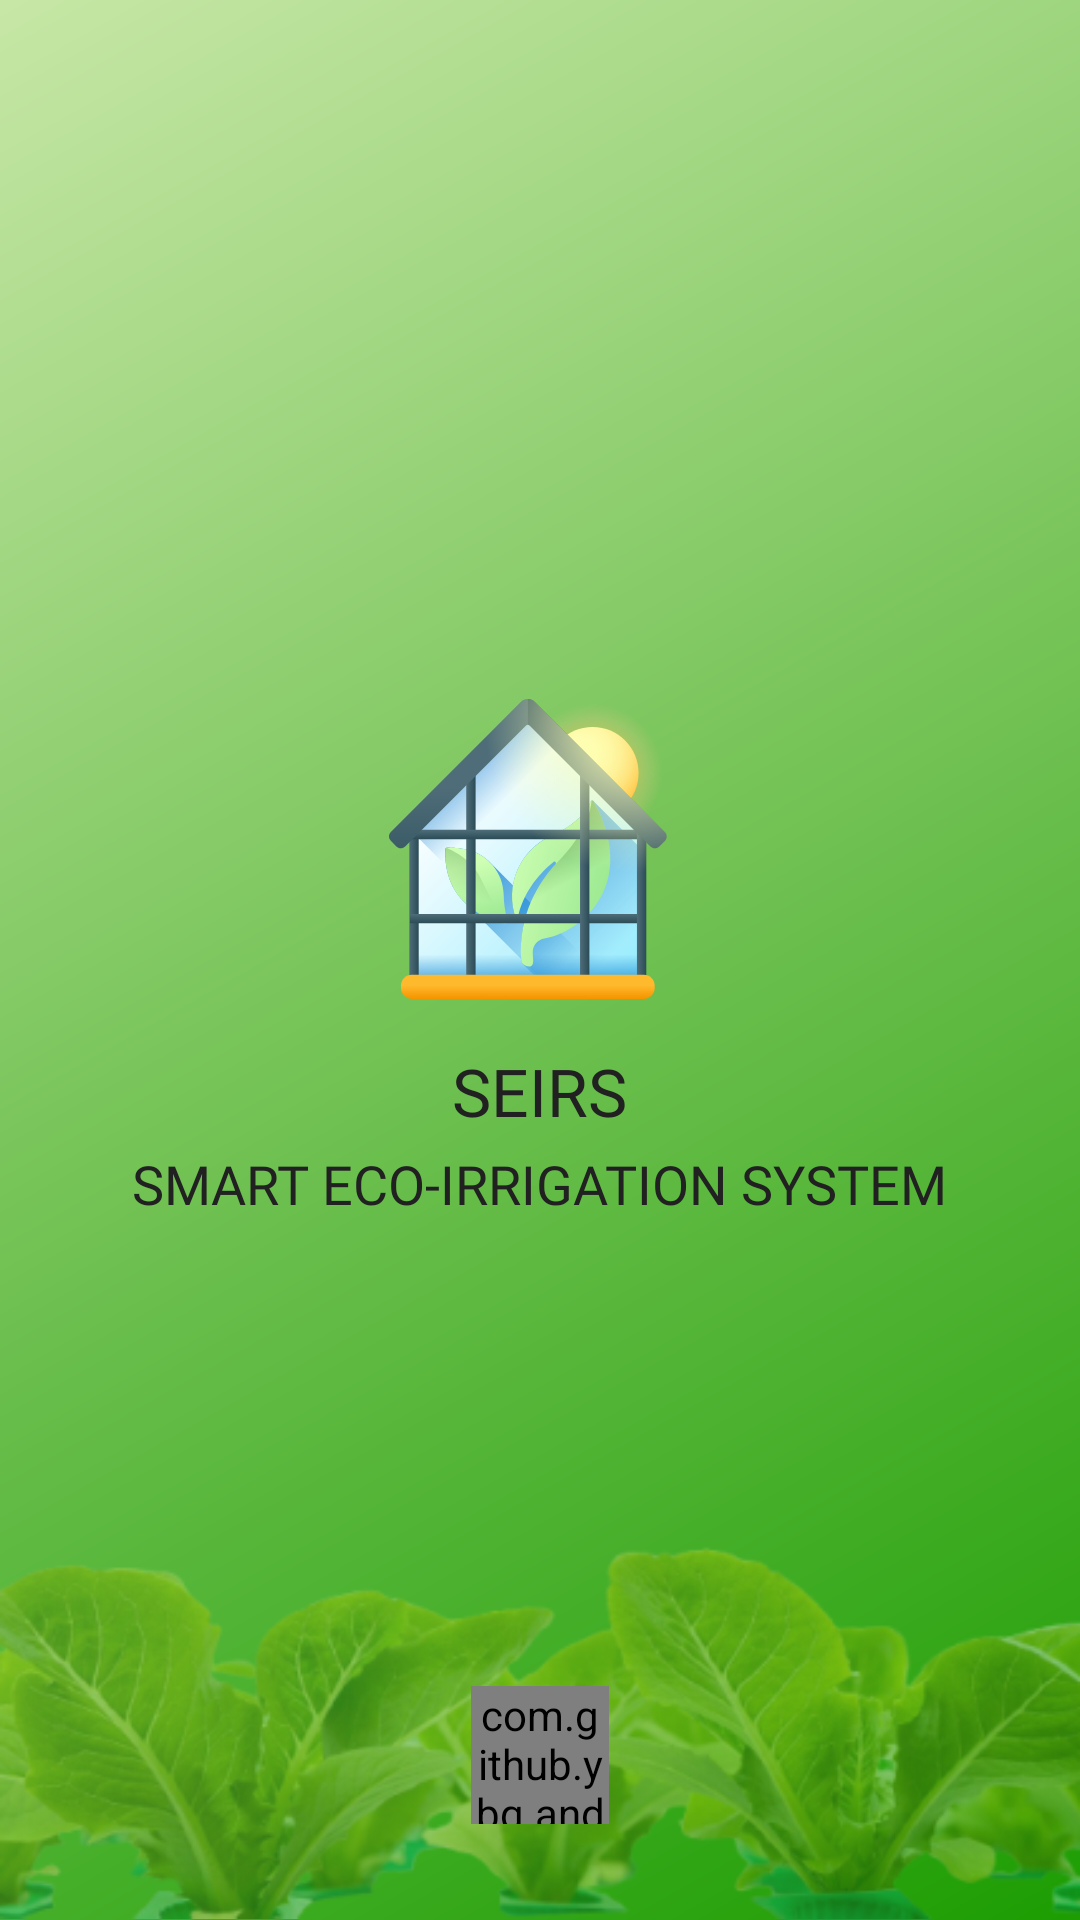

Icon click points for this 1080*1920 phone screenshot, format point (x, y):
greenhouse: point (528, 849)
